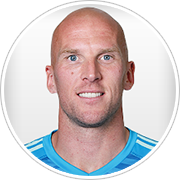smile: (75, 88, 105, 102)
